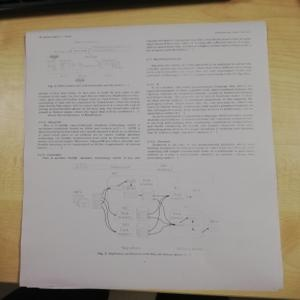diagram: (68, 163, 222, 252), (38, 41, 137, 86)
text: (36, 89, 142, 151), (143, 80, 254, 136), (144, 139, 257, 164), (142, 57, 253, 81), (143, 38, 254, 52)
